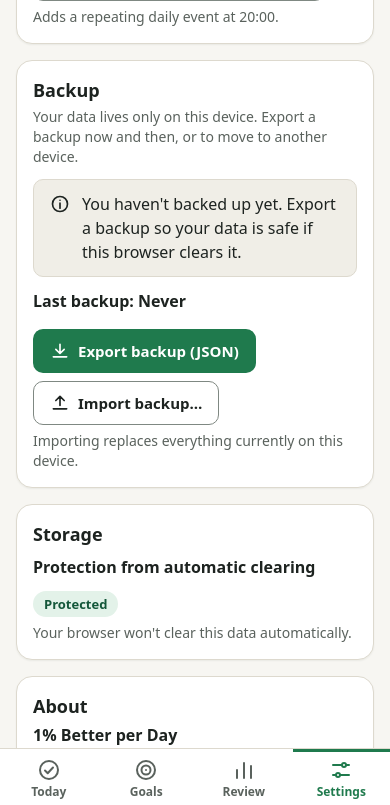
Test case: Settings — Backup card (M3-AC6, AC8, AC9, AC10, AC13) › shows "Last backup: Never" and the never-backed-up nag when there are goals; export downloads the file and updates the date
(page scrolled)
Expected: the text "Last backup: Never" is shown, [33,290,186,312]
Expected: the element with test id "backup-banner" shows "You haven't backed up yet. Export a backup so your data is safe if this browser clears it.", [82,193,336,263]
Click the button "Export backup (JSON)". click: (144, 351)
box: [33,329,256,373]
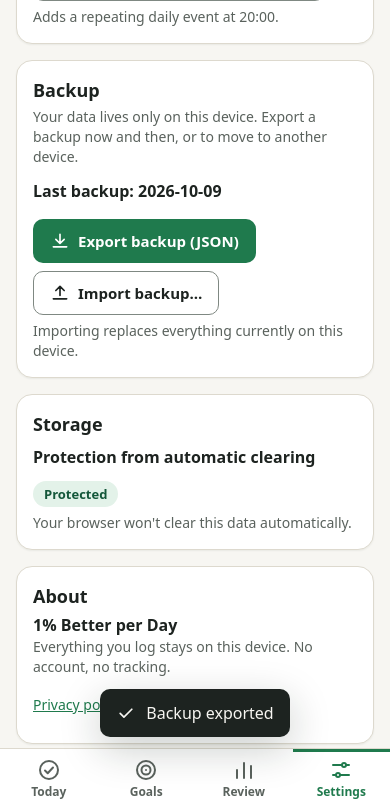
Expected: the message reads "Backup exported", [146,702,274,724]
Expected: the text with test id "last-backup" reads "Last backup: 2026-10-09", [33,180,222,202]
Expected: the element with test id "backup-banner" is gone
